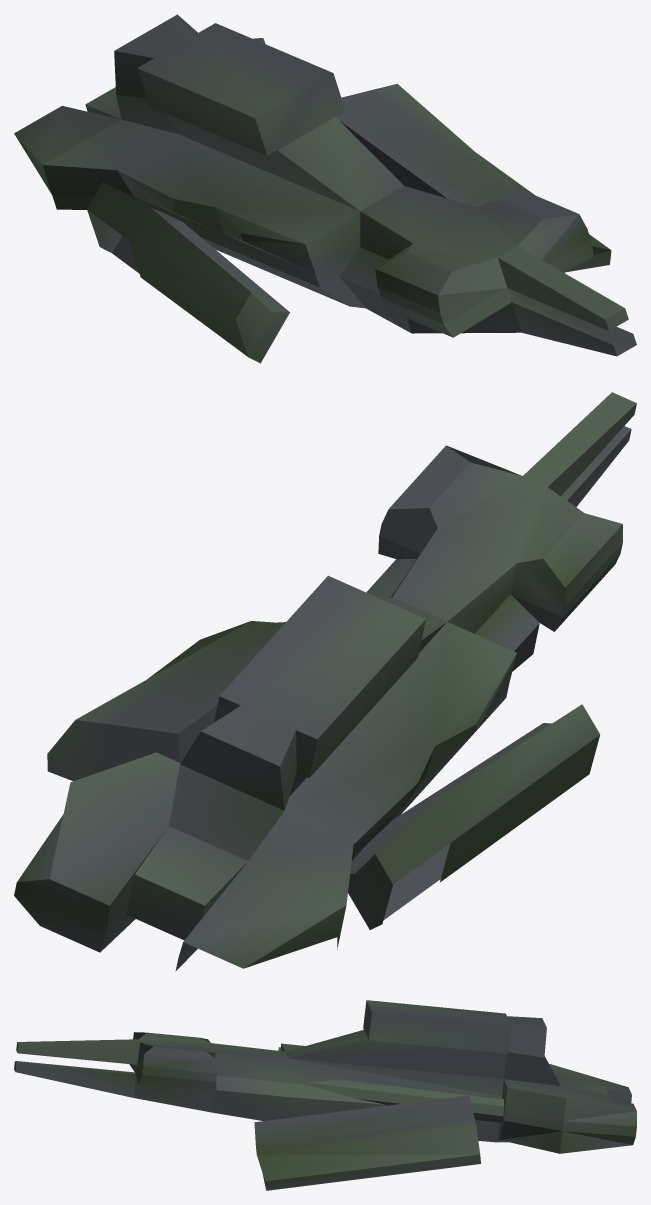
The model's file is NaveArruinada.fbx.
3 renders of one model, top to bottom at view 1: azimuth 30°, elevation 25°; view 2: azimuth 150°, elevation 25°; view 3: azimuth 270°, elevation 25°, orthographic. The views are drawn at different scales.
Parts seen in each view (by area): view 1: LOD_0; view 2: LOD_0; view 3: LOD_0.
Part boxes in pixels (<box>): LOD_0: <box>14,14,636,363</box>; LOD_0: <box>14,392,636,971</box>; LOD_0: <box>14,1000,636,1190</box>.
Size of what is drawn, in the model's own units: 2126 by 1201 by 4827.
